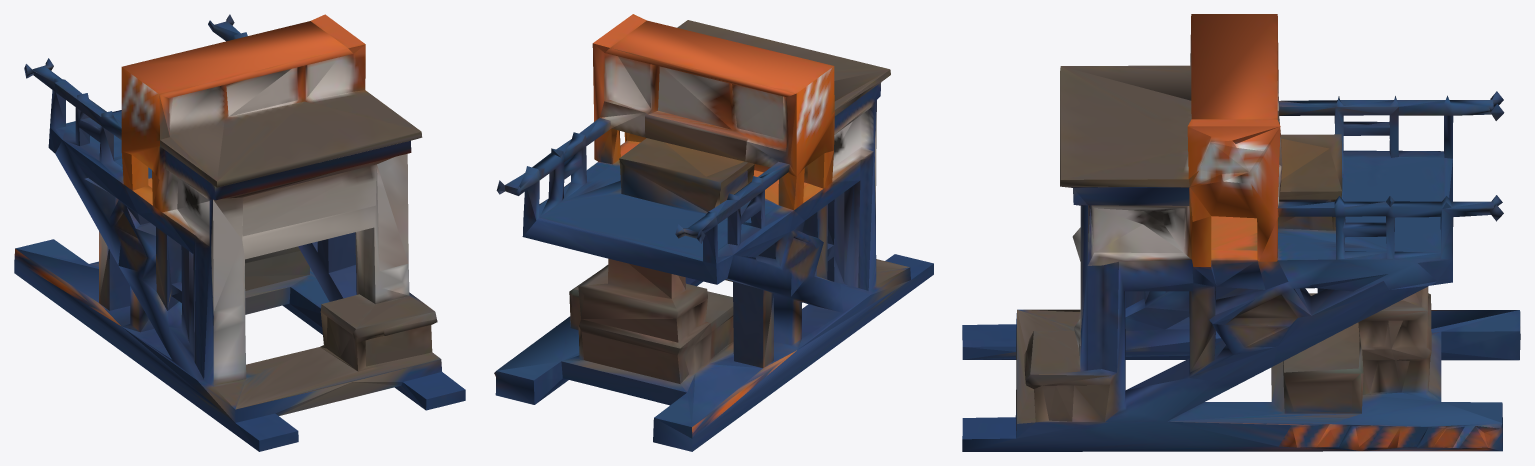
The picture shows the model from 3 angles, left to right: view 1: azimuth 30°, elevation 25°; view 2: azimuth 150°, elevation 25°; view 3: azimuth 270°, elevation 25°; orthographic projection. The views are drawn at different scales.
Visible parts, largest first — view 1: tripo_node_fb7e8506; view 2: tripo_node_fb7e8506; view 3: tripo_node_fb7e8506.
Part boxes in pixels (x1,y1,x2,y2): tripo_node_fb7e8506: (14,14,465,451); tripo_node_fb7e8506: (494,14,933,451); tripo_node_fb7e8506: (962,14,1520,451).
Size of the model in its own units: 17.01 by 22.15 by 34.35.
1 material, 1 textured.
